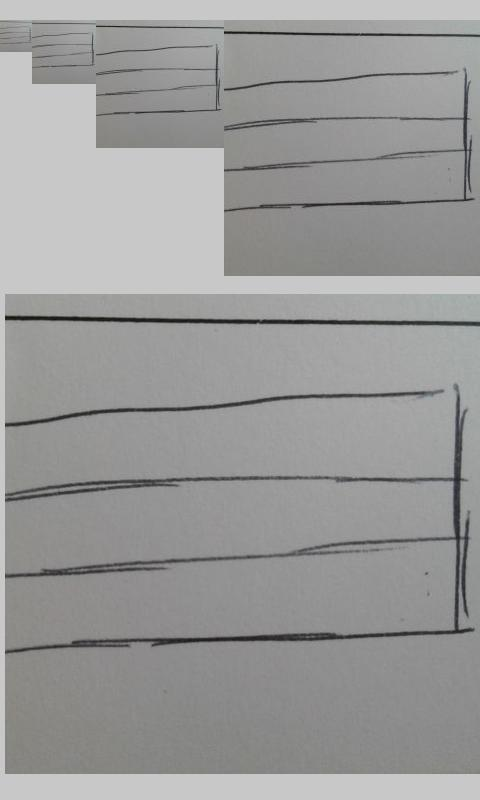list_view: (8, 385, 465, 663), (227, 68, 472, 221), (98, 42, 222, 118), (32, 31, 94, 69), (1, 25, 32, 46)
